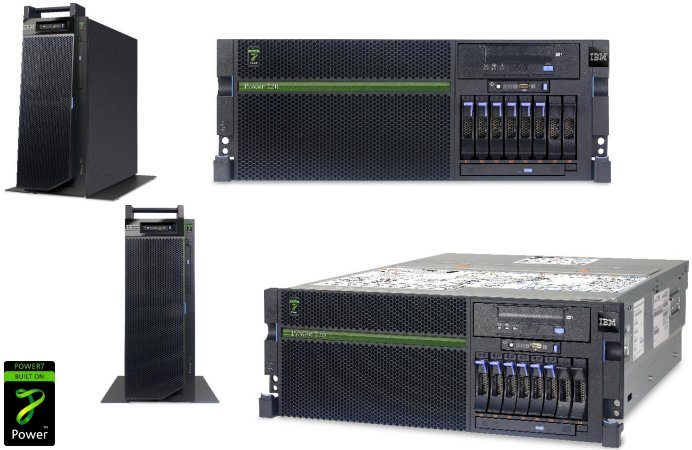ibm-server: (255, 247, 691, 450), (208, 31, 621, 192), (7, 2, 160, 205), (103, 201, 232, 409)
